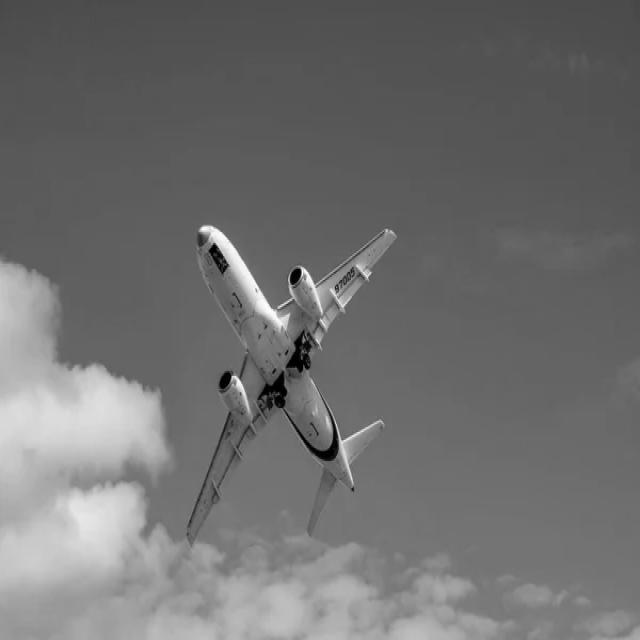Aircraft: (175, 216, 396, 541)
